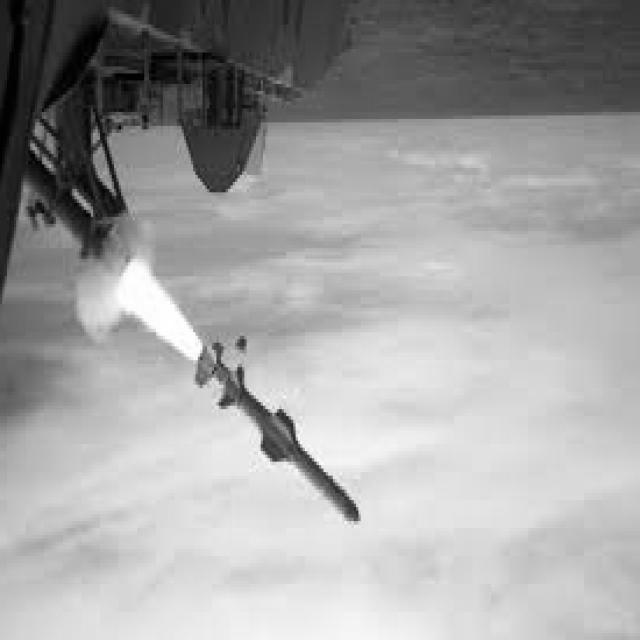missile: (187, 327, 374, 537)
